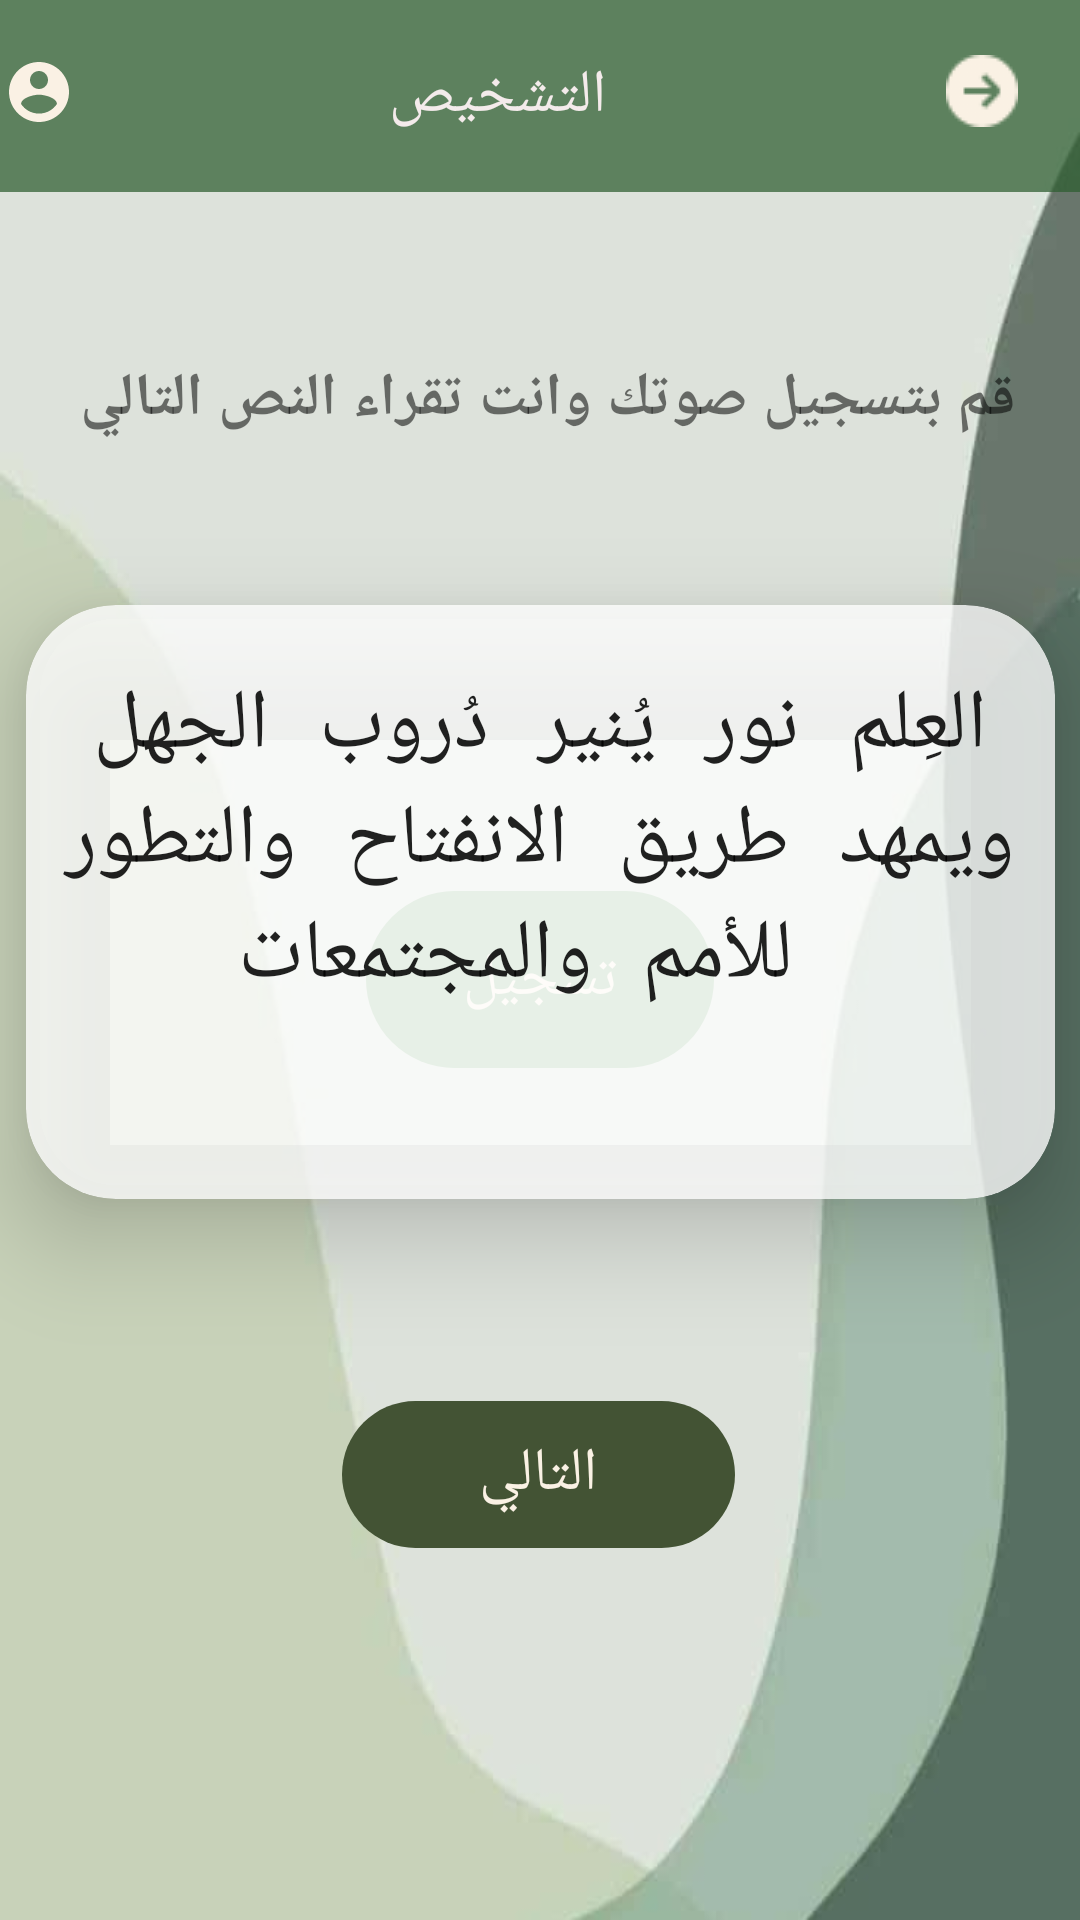

Icon click points for this 1080px×1920px phone screenshot, format (x,y):
arrow: (982,91)
